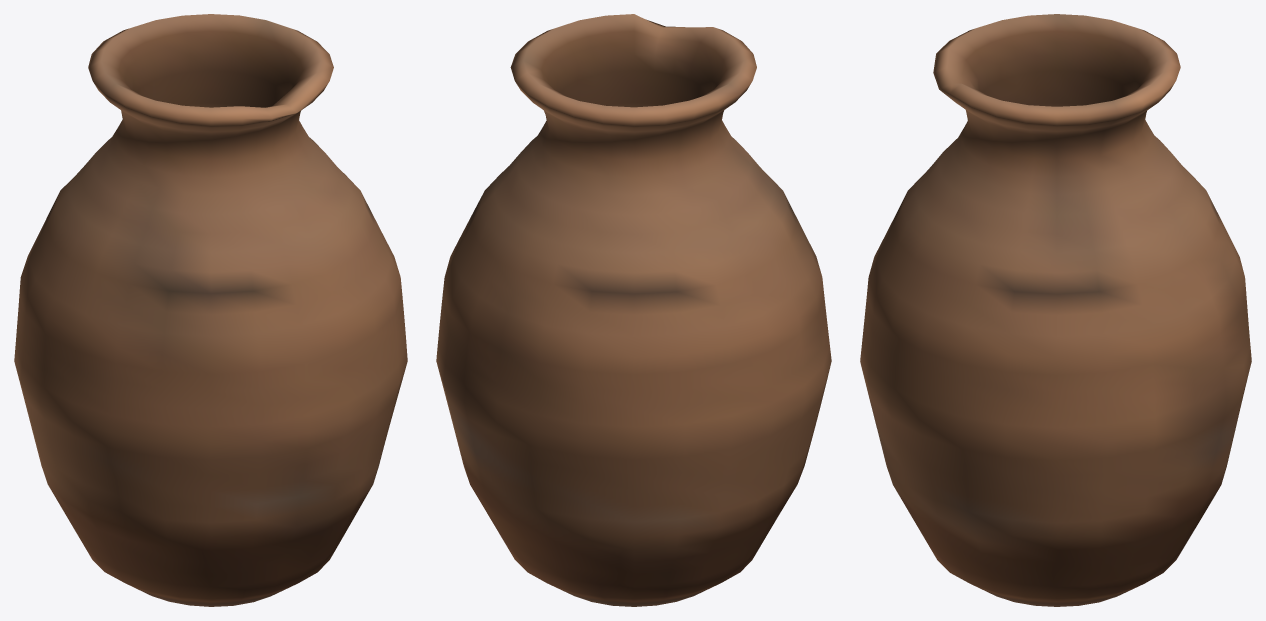
The model's file is pot_matka_v2_c.glb.
3 renders of one model, left to right at view 1: azimuth 30°, elevation 25°; view 2: azimuth 150°, elevation 25°; view 3: azimuth 270°, elevation 25°, orthographic.
Visible parts, largest first — view 1: hb_main; view 2: hb_main; view 3: hb_main.
Part boxes in pixels (x1,y1,x2,y2): hb_main: [14, 14, 407, 606]; hb_main: [436, 14, 831, 606]; hb_main: [860, 14, 1251, 606].
Size of the model in its own units: 0.5127 by 0.73 by 0.5073.
